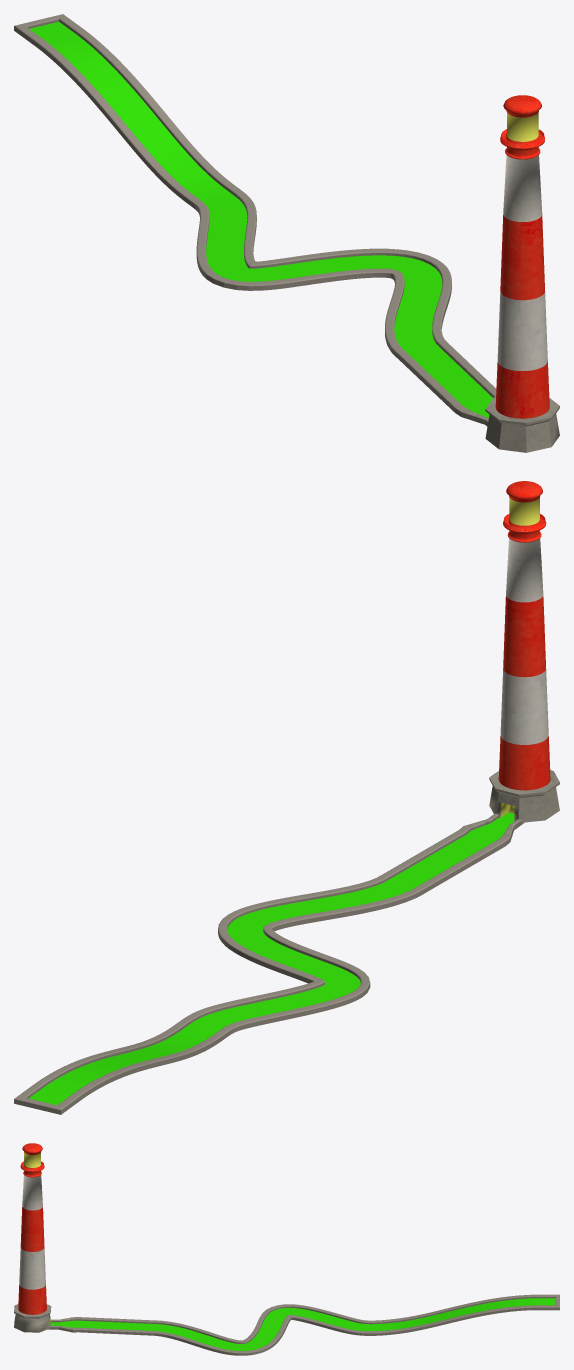
The picture shows the model from 3 angles, top to bottom: view 1: azimuth 30°, elevation 25°; view 2: azimuth 150°, elevation 25°; view 3: azimuth 270°, elevation 25°; orthographic projection. The views are drawn at different scales.
Visible parts, largest first — view 1: course, lighthouse, walls; view 2: lighthouse, walls, course; view 3: walls, lighthouse, course.
Part boxes in pixels (x1=…): course: x1=29, y1=22, x2=492, y2=418; lighthouse: x1=485, y1=95, x2=559, y2=452; walls: x1=14, y1=14, x2=496, y2=426; lighthouse: x1=489, y1=481, x2=559, y2=822; walls: x1=14, y1=813, x2=524, y2=1114; course: x1=29, y1=812, x2=514, y2=1105; walls: x1=47, y1=1294, x2=559, y2=1355; lighthouse: x1=14, y1=1143, x2=51, y2=1332; course: x1=50, y1=1298, x2=555, y2=1350.
Size of what is drawn, in the model's own units: 1340 by 2293 by 6319.
